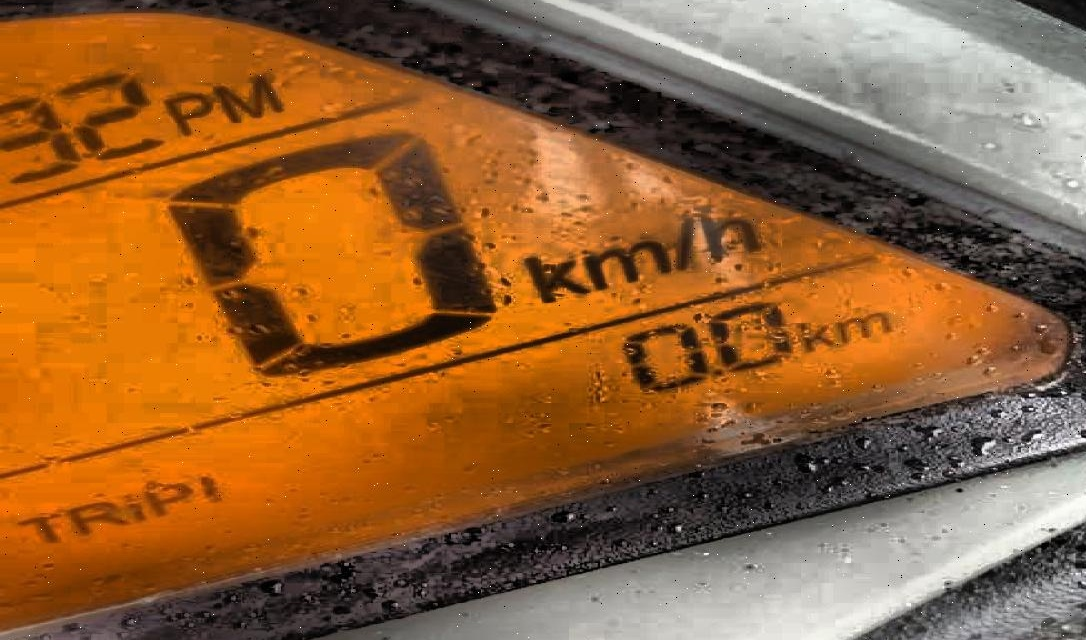-: (708, 361, 724, 380)
0: (162, 137, 491, 378), (706, 302, 793, 372), (620, 323, 706, 389)
1: (195, 467, 233, 507)
2: (55, 68, 164, 158)
9: (0, 93, 75, 184)
X: (582, 241, 666, 285), (209, 75, 287, 120), (697, 208, 766, 258), (520, 249, 586, 300), (162, 90, 211, 134), (62, 503, 124, 532), (142, 479, 191, 514), (833, 313, 895, 340), (671, 214, 697, 269), (13, 512, 57, 542), (795, 319, 833, 350), (117, 489, 146, 519)
